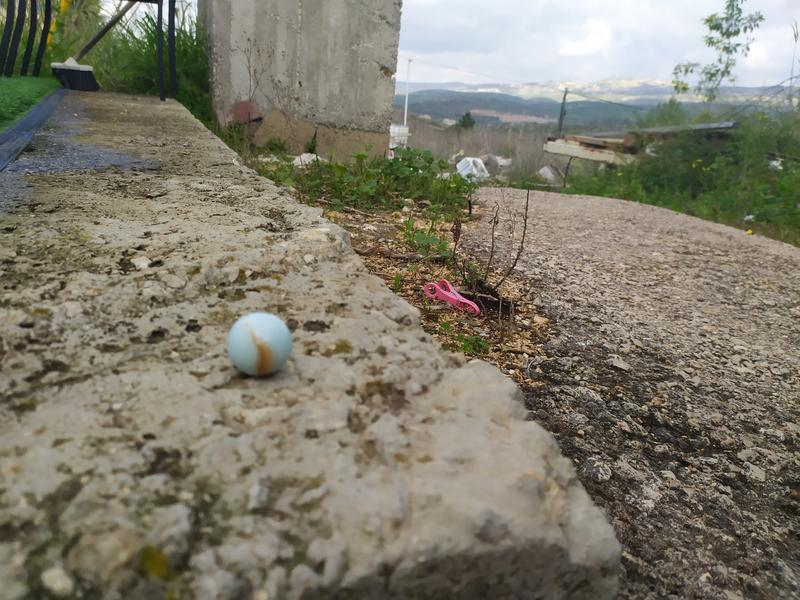Warning: (222, 309, 295, 379)
